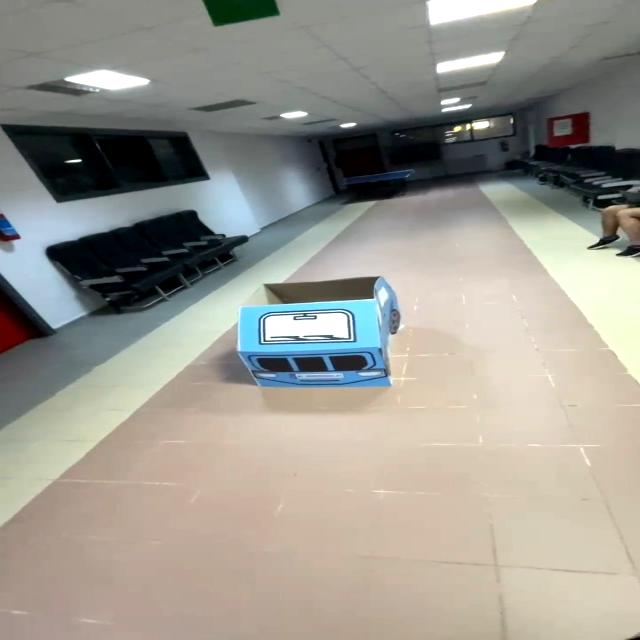blue_car: (221, 270, 420, 403)
